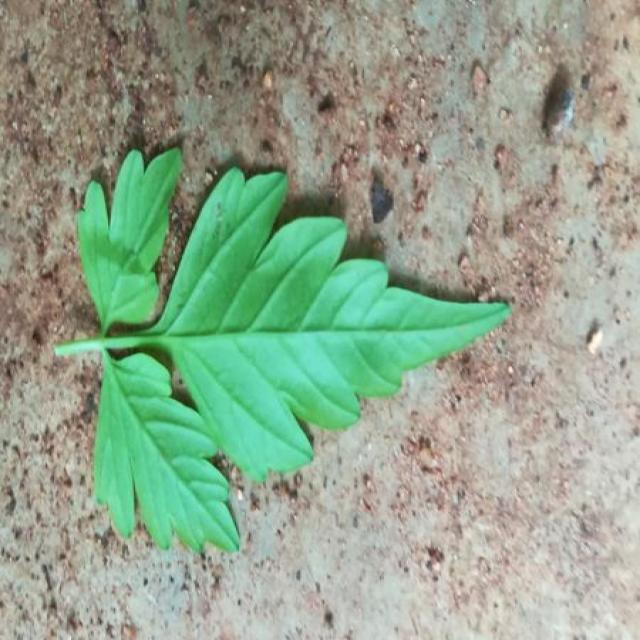balloon_Vine: (57, 150, 510, 551)
